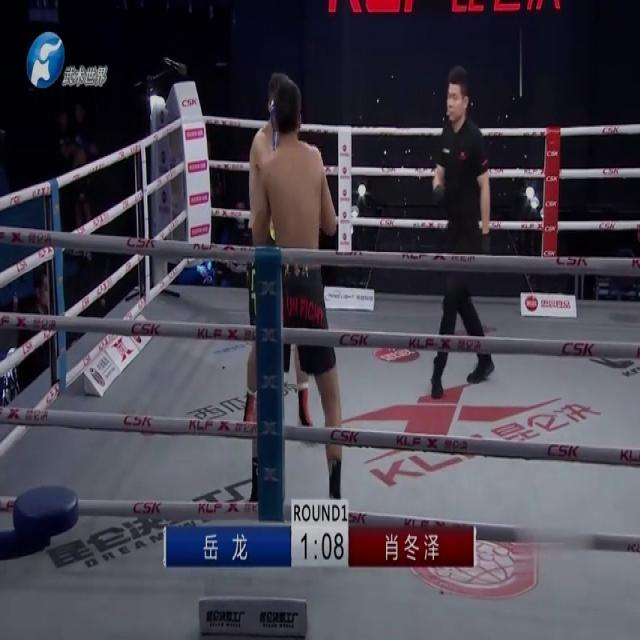fight: (244, 61, 347, 522)
non-fight: (426, 61, 495, 399)
